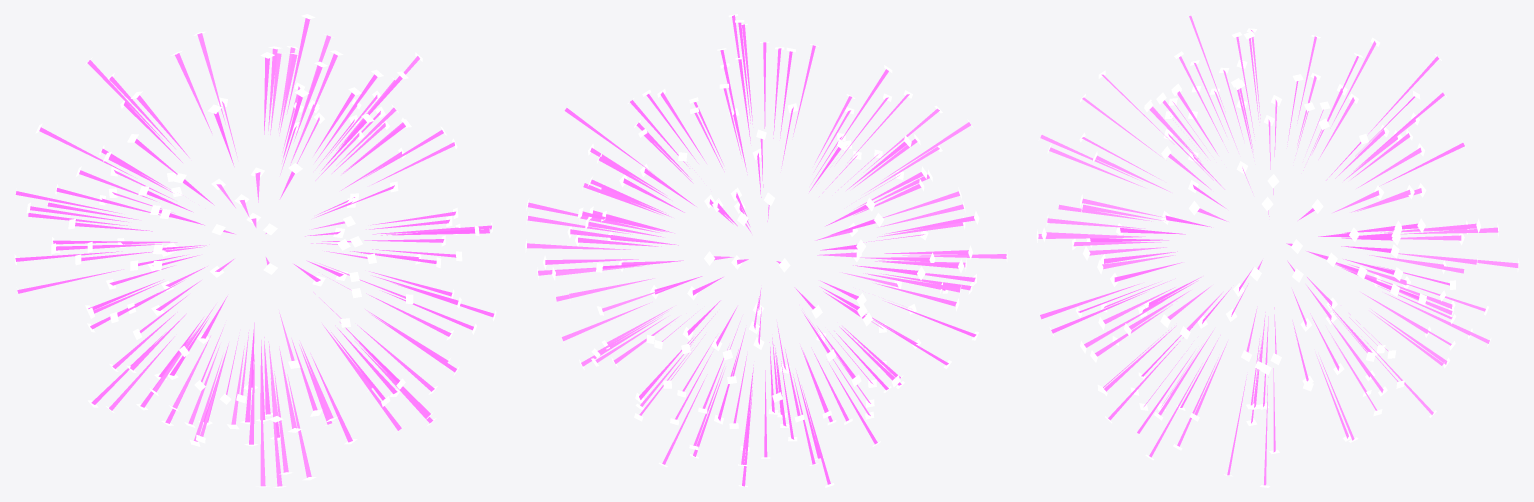
Rendered from firework_pink.glb.
3 views of the same model, side by side, from view 1: azimuth 30°, elevation 25°; view 2: azimuth 150°, elevation 25°; view 3: azimuth 270°, elevation 25° (orthographic). The views are drawn at different scales.
Visible parts, largest first — view 1: main; view 2: main; view 3: main.
Part boxes in pixels (bbox=[...]): main: bbox=[14, 14, 496, 487]; main: bbox=[525, 14, 1007, 487]; main: bbox=[1036, 14, 1519, 487].
Bounding box in the file's own units: 9.37 × 9.33 × 9.47.
1 material, 1 textured.
